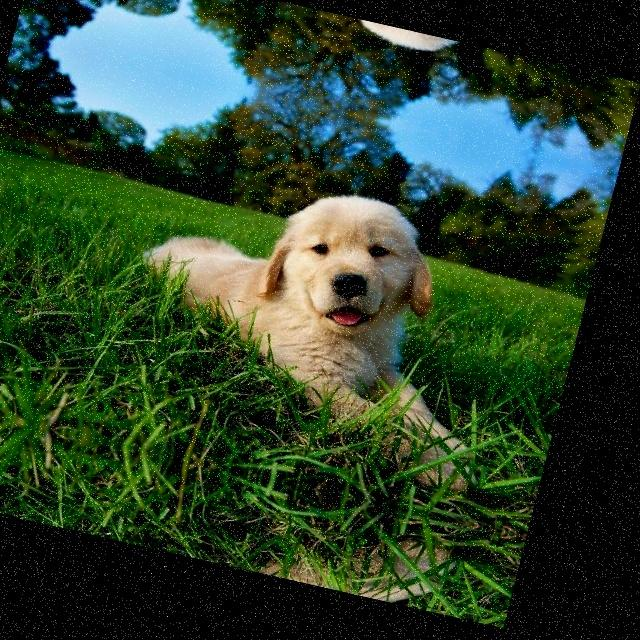dog: (94, 136, 552, 494), (63, 467, 468, 617), (194, 0, 590, 100)
